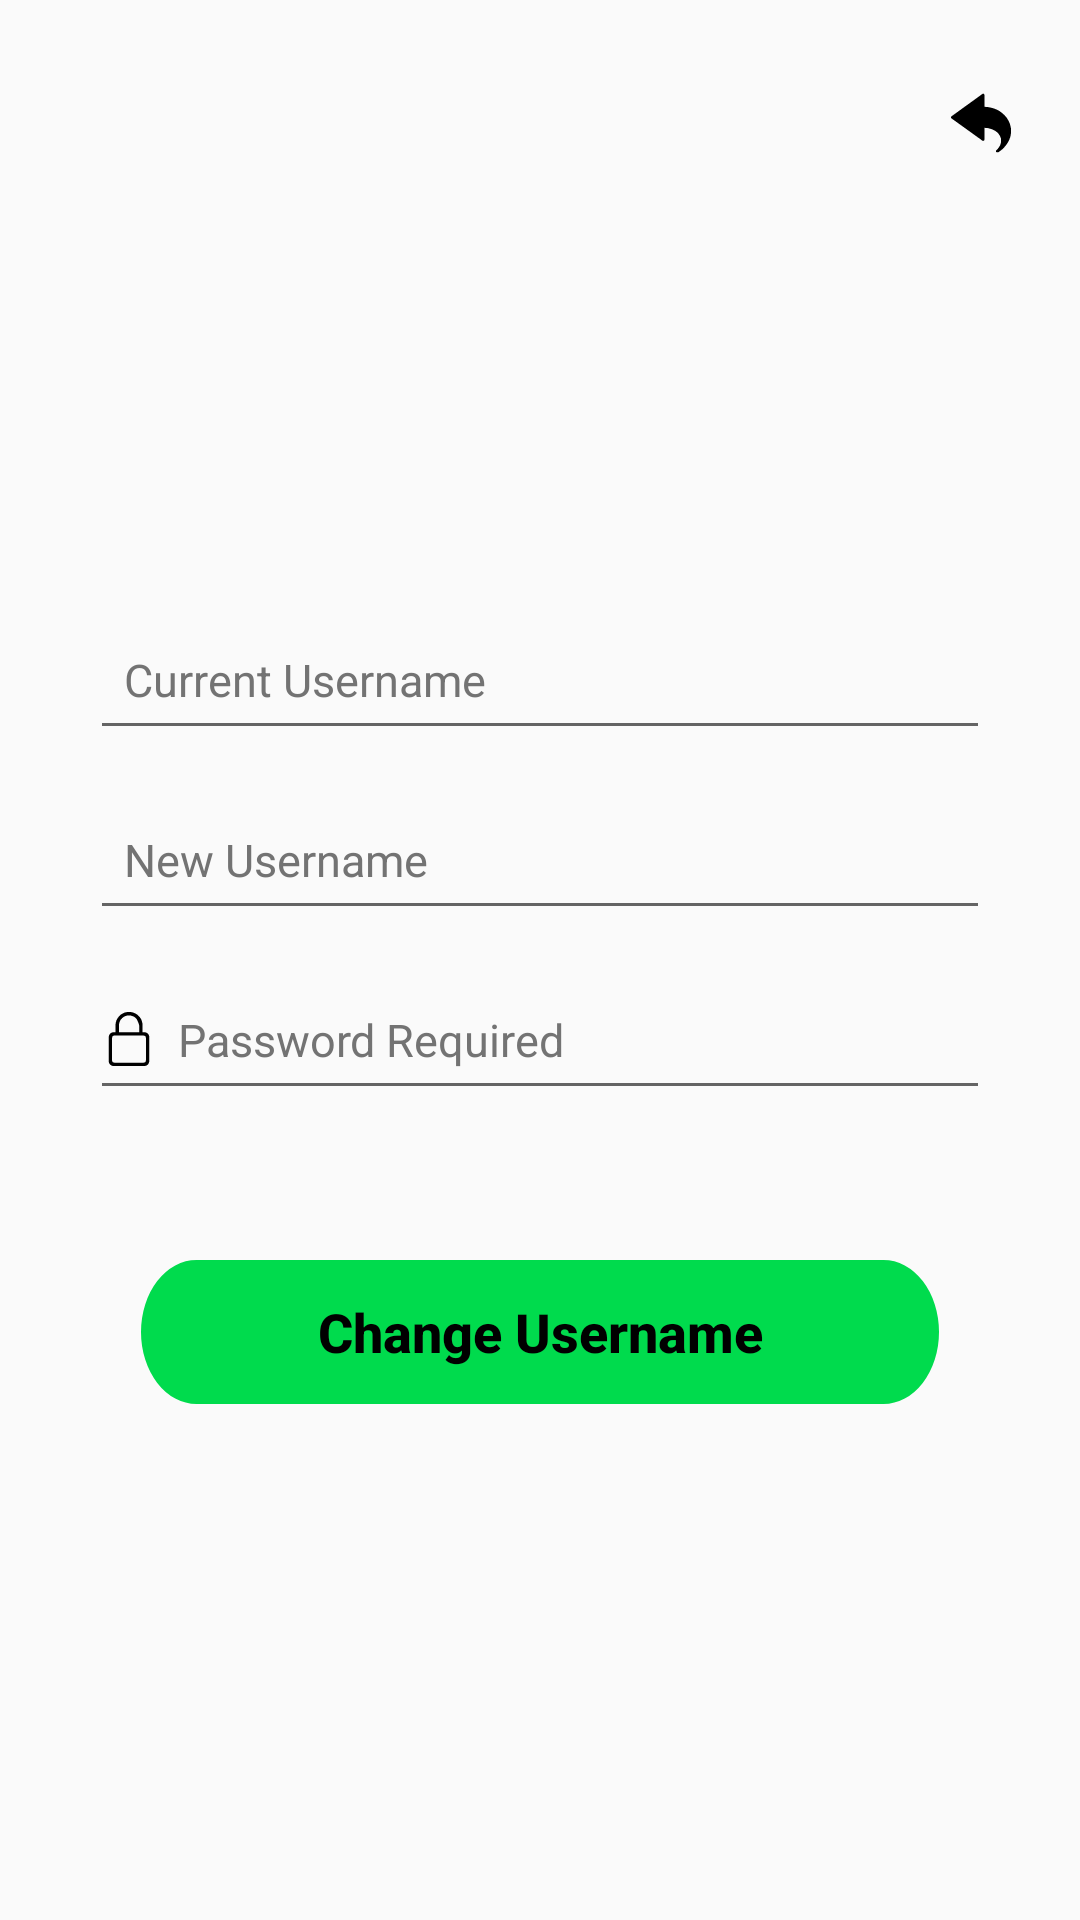

Screen size 1080w x 1920h. Icon name, then its box in pixels as (x1, y1, x2, y2):
Back: (951, 93, 1011, 153)
